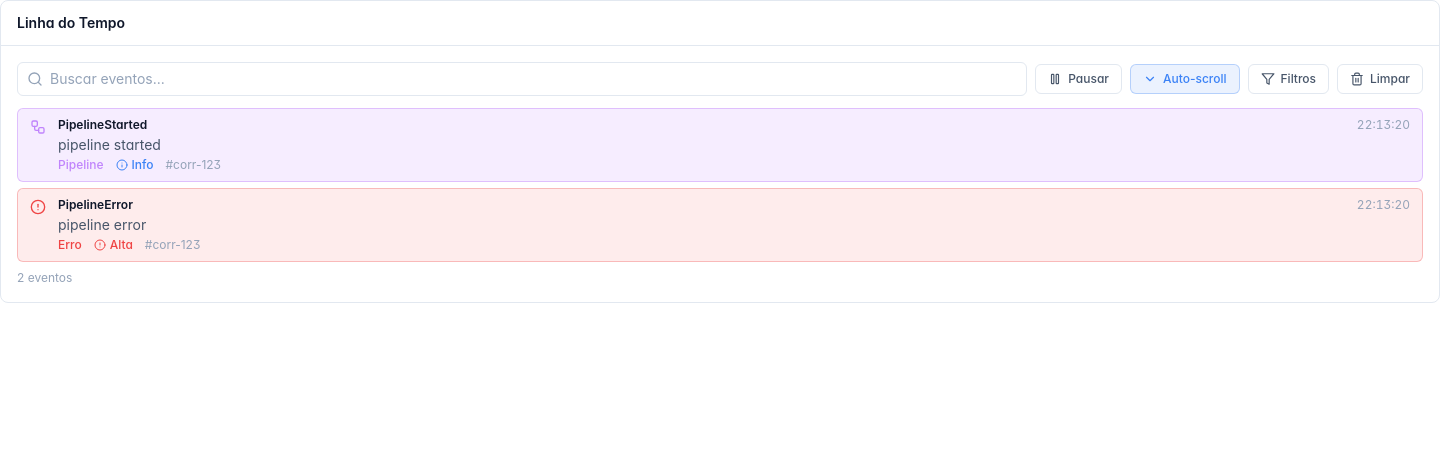
TimelinePanel › filtros de severity funcionam
This screenshot has width=1440, height=458.
Click the button with test id "timeline-filter-btn": (1288, 79) [1248, 64, 1329, 94]
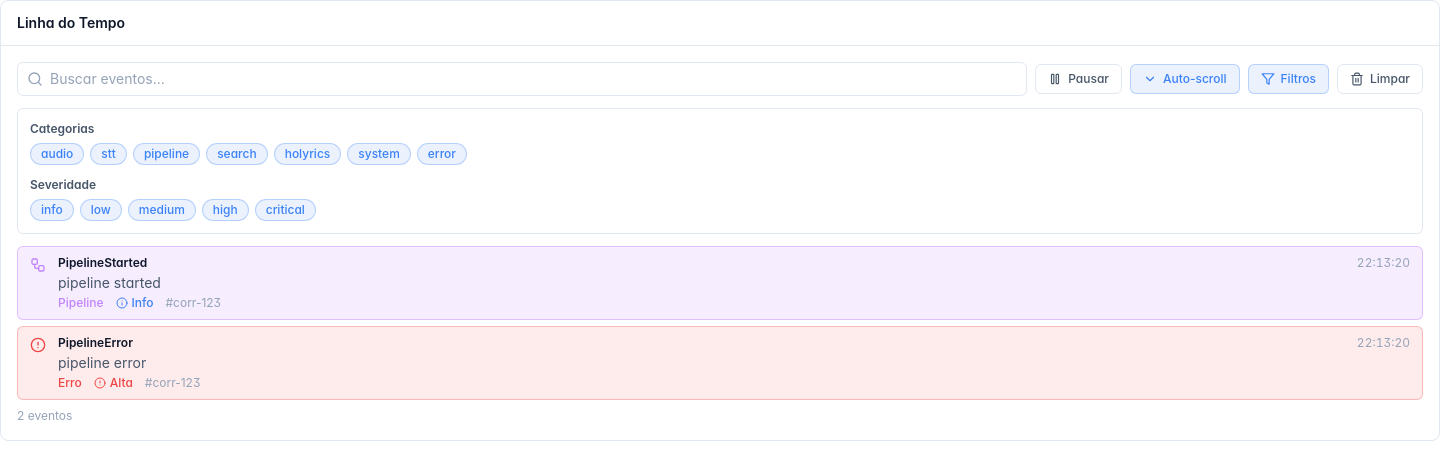
Desativa severity info
Click the button with test id "filter-severity-info": (52, 210) [30, 199, 74, 221]
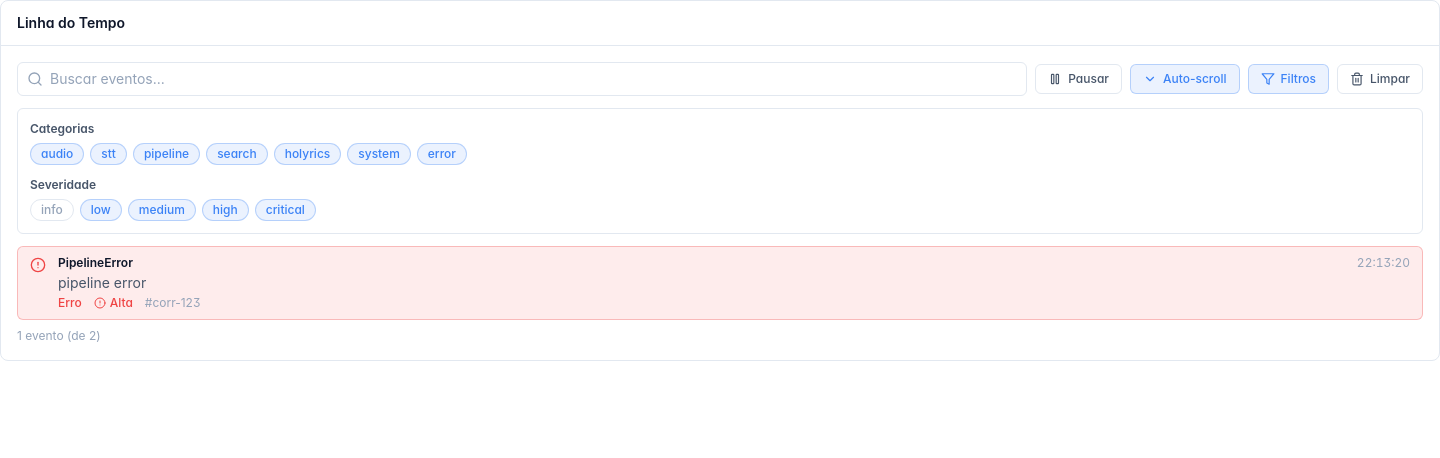
Result: the number of elements with test id "event-card" is 1 at [17, 246, 1423, 320]
